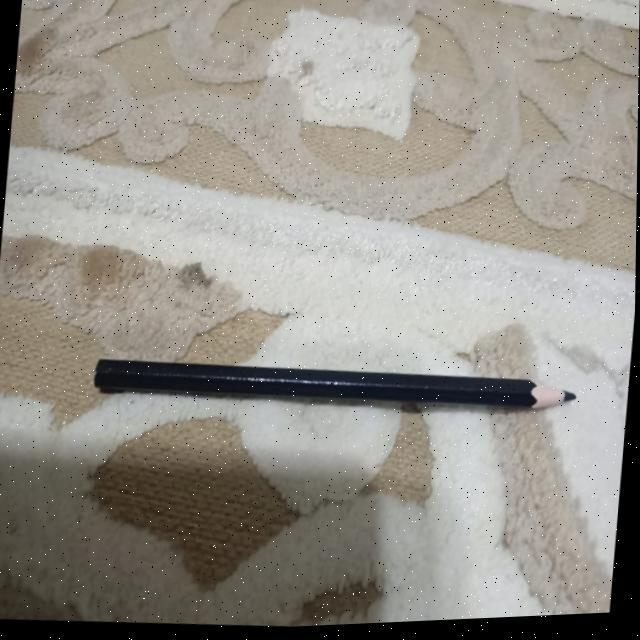pencil: (90, 331, 588, 445)
